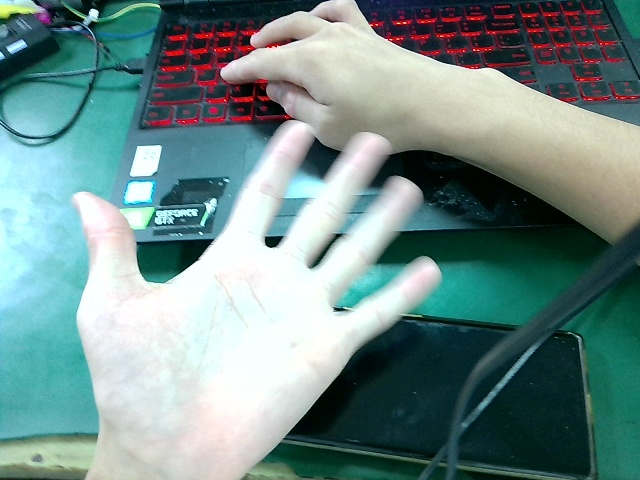paper: (52, 112, 459, 480)
